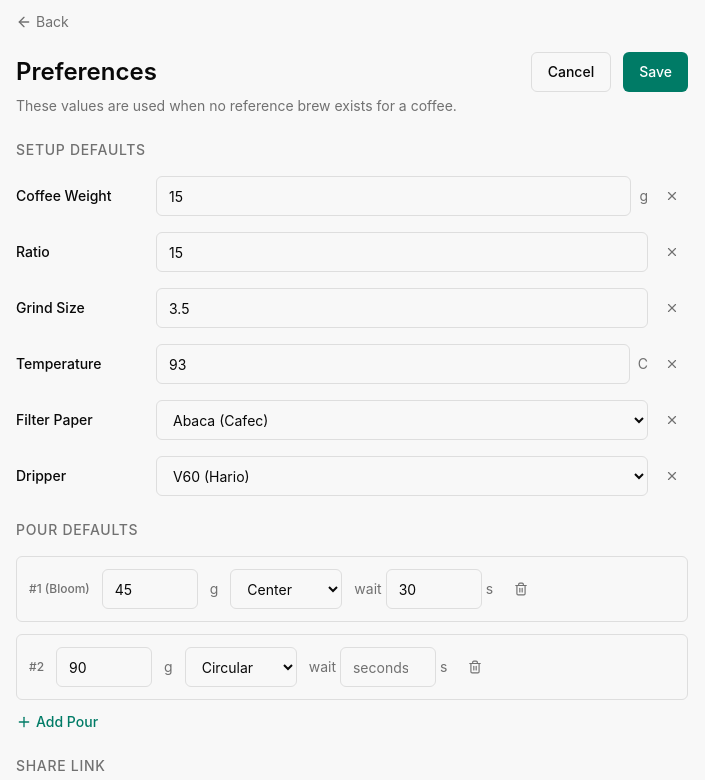
PreferencesPage › clears filter paper default
Check: the dropdown labelled "Filter Paper" shows "Abaca (Cafec)", box [156, 400, 648, 440]
Click the button named "Clear filter paper": (672, 420) [656, 404, 688, 436]
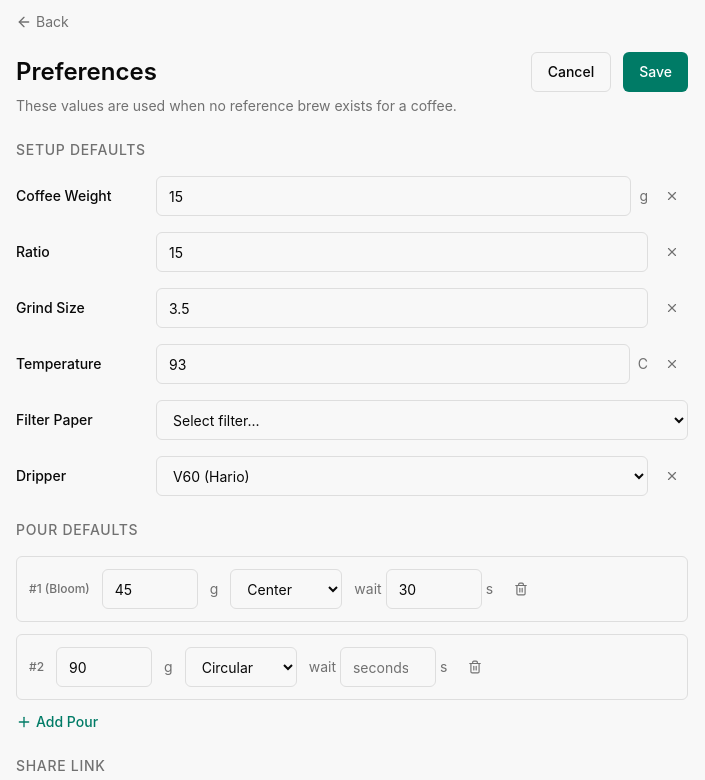
Check: the dropdown labelled "Filter Paper" shows "Select filter...", box [156, 400, 688, 440]
